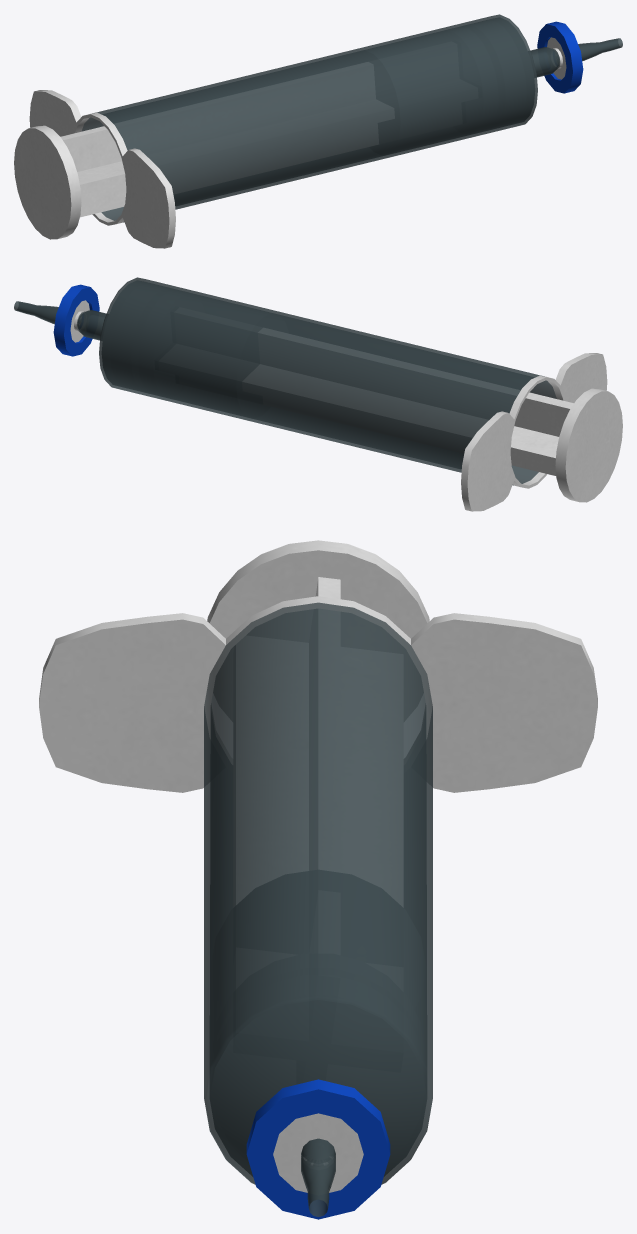
File: SM_针头滤器.FBX
3 renders of one model, top to bottom at view 1: azimuth 30°, elevation 25°; view 2: azimuth 150°, elevation 25°; view 3: azimuth 270°, elevation 25°, orthographic. The views are drawn at different scales.
Visible parts, largest first — view 1: SM_针管001, SM_针管002, SM_针管003; view 2: SM_针管001, SM_针管002, SM_针管003; view 3: SM_针管001, SM_针管002, SM_针管003.
Boxes of the visible parts, bbox=[...] form: SM_针管001: bbox=[29, 14, 537, 248]; SM_针管002: bbox=[14, 62, 394, 239]; SM_针管003: bbox=[530, 21, 622, 93]; SM_针管001: bbox=[99, 277, 607, 511]; SM_针管002: bbox=[242, 328, 622, 502]; SM_针管003: bbox=[14, 284, 106, 356]; SM_针管001: bbox=[39, 596, 597, 1184]; SM_针管002: bbox=[207, 540, 429, 905]; SM_针管003: bbox=[246, 1079, 390, 1219].
Bounding box in the file's own units: 0.1063 × 0.0183 × 0.0446.
